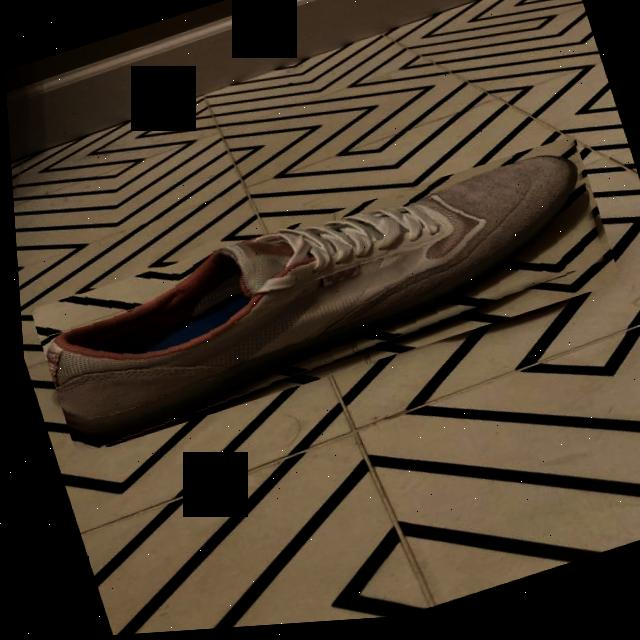shoe: (19, 141, 624, 459)
